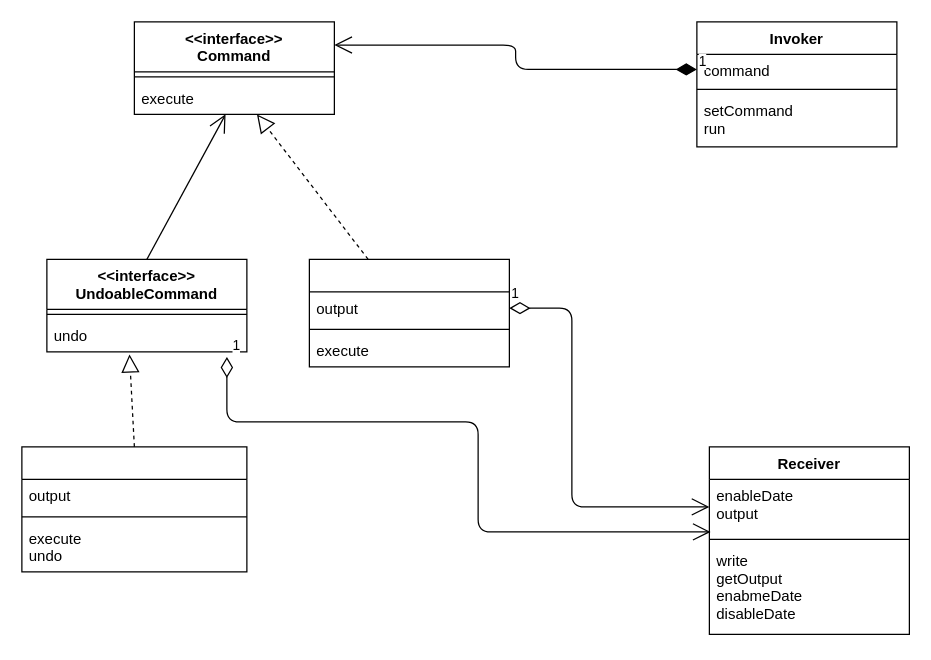
Image size: 931x660. Some labels were removed from this diagram. The box of each missing label's shape, as (x1, y1, x2, y2) in pixels:
AddMessageDateCommand: (21, 446, 247, 572)
HelloCommand: (308, 258, 509, 367)
